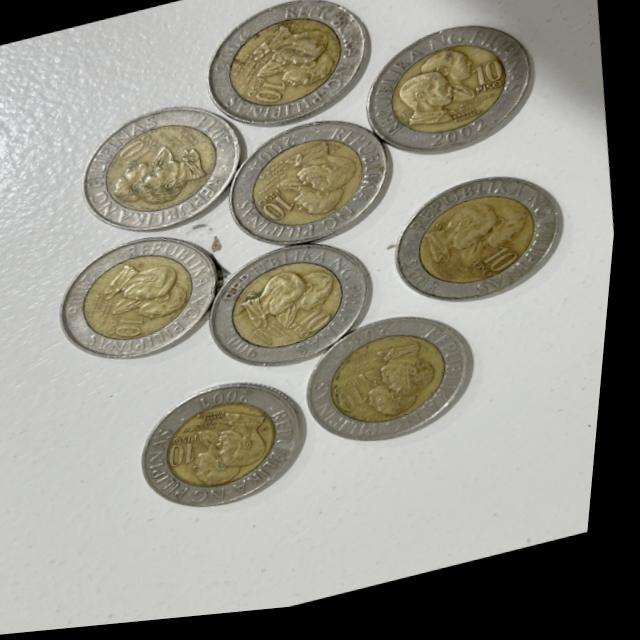10_Old_Front: (111, 129, 170, 179), (290, 310, 347, 354), (108, 307, 162, 352), (259, 187, 309, 235), (474, 252, 536, 290), (461, 65, 514, 109), (245, 76, 298, 119), (333, 382, 383, 426), (173, 432, 217, 476)
